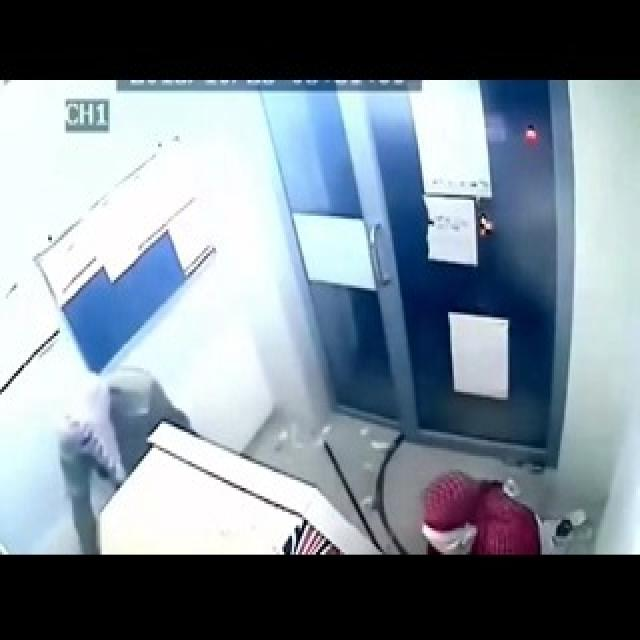thief: (39, 361, 192, 527), (412, 468, 546, 554)
